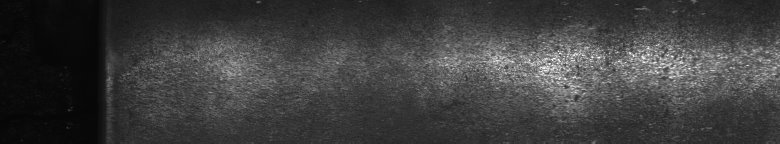kb: (428, 6, 776, 130)
